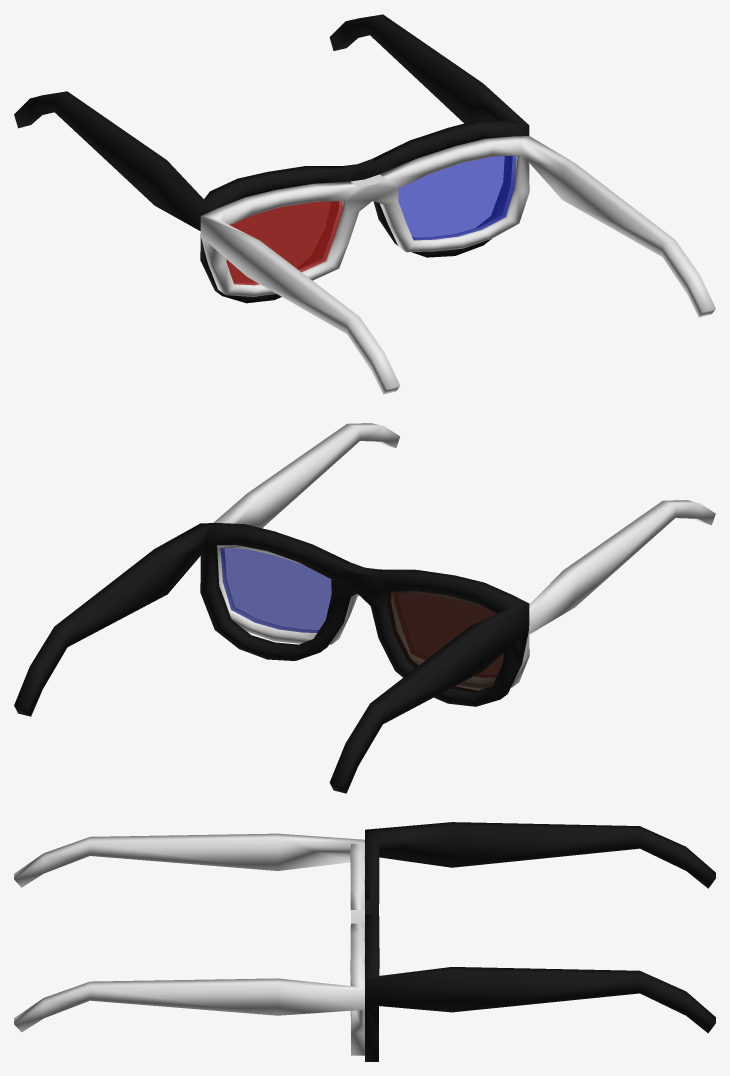
Rendered from 3D_glasses.glb.
3 views of the same model, one above another, from view 1: azimuth 30°, elevation 25°; view 2: azimuth 150°, elevation 25°; view 3: azimuth 270°, elevation 25° (orthographic). The views are drawn at different scales.
Visible parts, largest first — view 1: Plane.003, Plane, Plane.002, Plane.004, Plane.001; view 2: Plane, Plane.003, Plane.002, Plane.001, Plane.004; view 3: Plane, Plane.003.
Boxes of the visible parts, x1,y1,x2,y2 form: Plane.003: (200,136,715,394); Plane: (14,14,529,303); Plane.002: (398,155,516,240); Plane.004: (226,201,342,285); Plane.001: (227,201,334,282); Plane: (14,523,529,793); Plane.003: (213,423,715,688); Plane.002: (220,548,331,632); Plane.001: (387,591,503,692); Plane.004: (395,594,502,677); Plane: (365,822,715,1061); Plane.003: (14,833,364,1055).
Size of the model in its own units: 0.4675 by 0.1669 by 0.9192.
